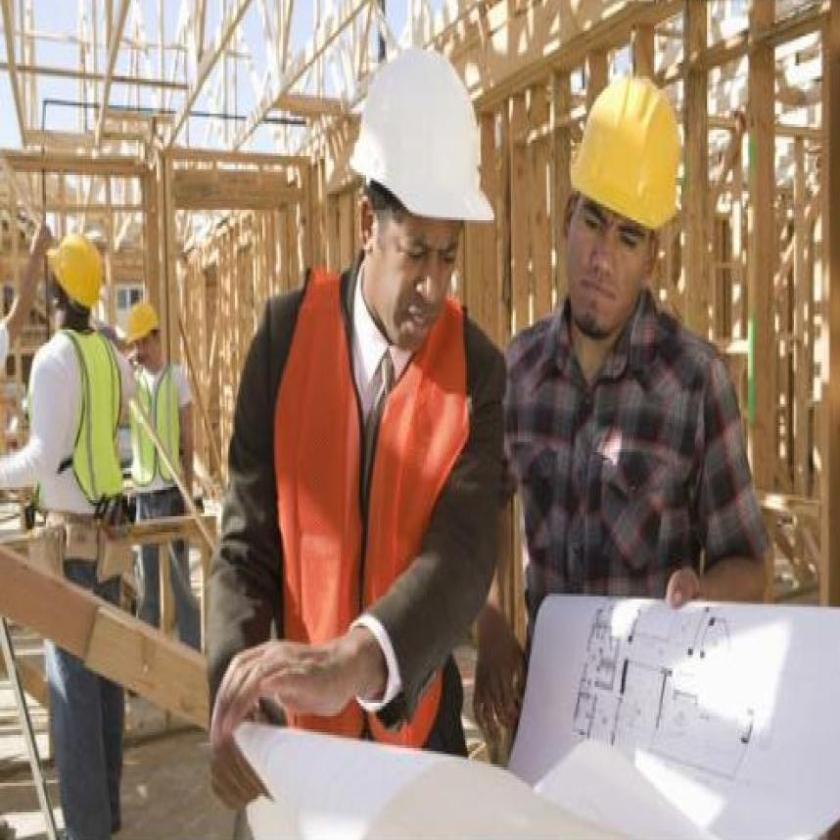Con_casco: (340, 44, 498, 351), (554, 78, 682, 350), (33, 229, 112, 336)
